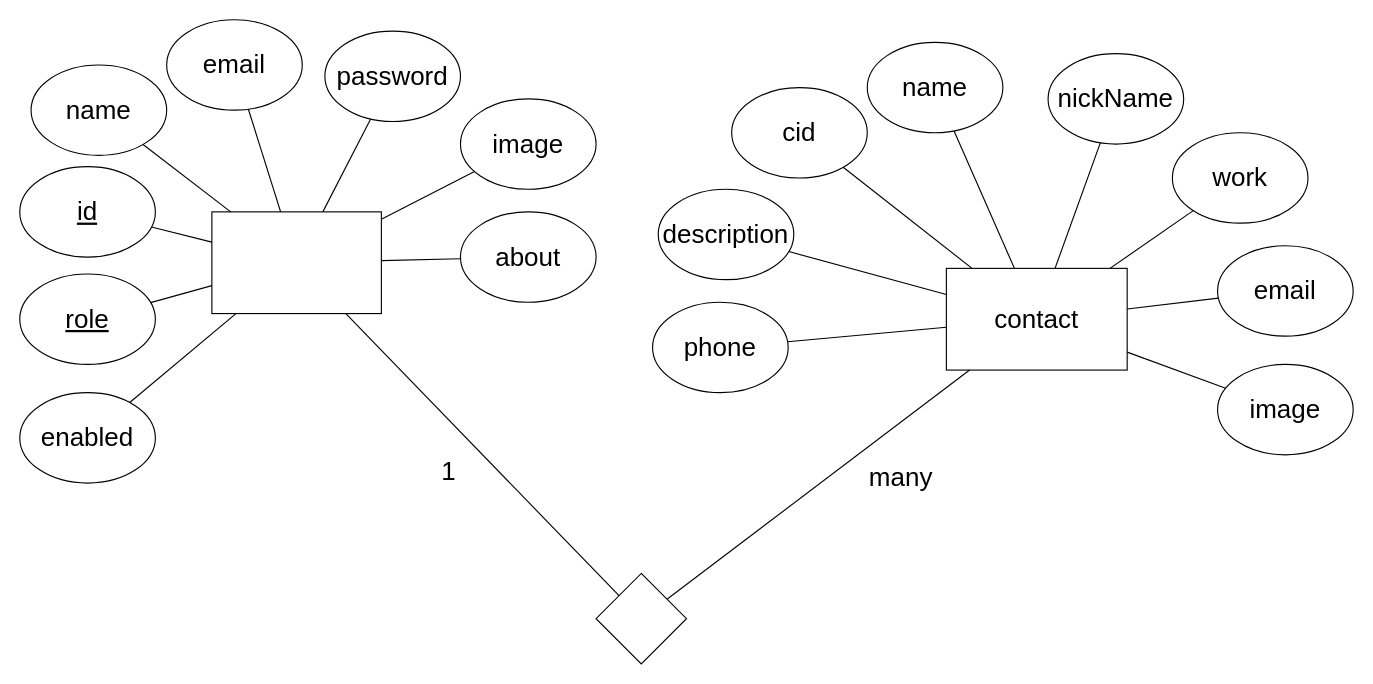
This 1373x684 diagram has some shape labels left out. Here are the shapes that lost their labels. From the top down, the centre of each, then its label:
At (296,262): "user".
At (640,618): "has".
